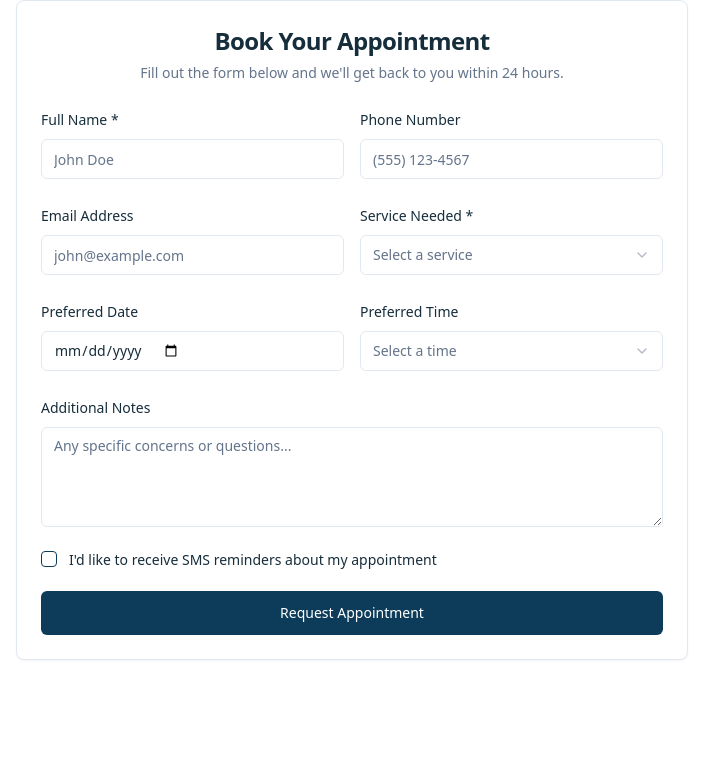
Scenario: IntakeForm Component › Form Validation › should validate phone format
Step 1. Type "123" into the field labelled "Phone Number" → (512, 159), box left=360, top=139, right=663, bottom=179
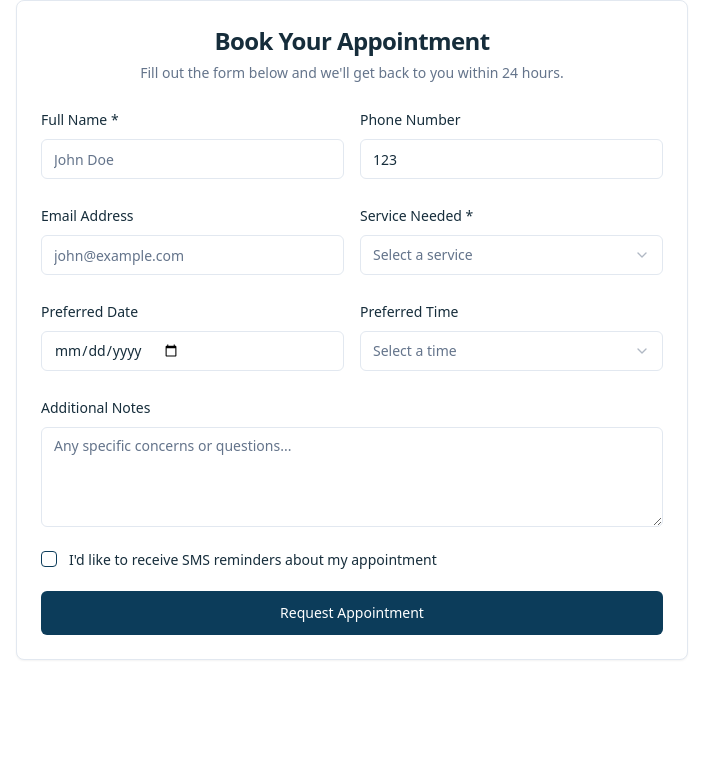
Step 2. Click the button "Request Appointment" → (352, 613), box left=41, top=591, right=663, bottom=635
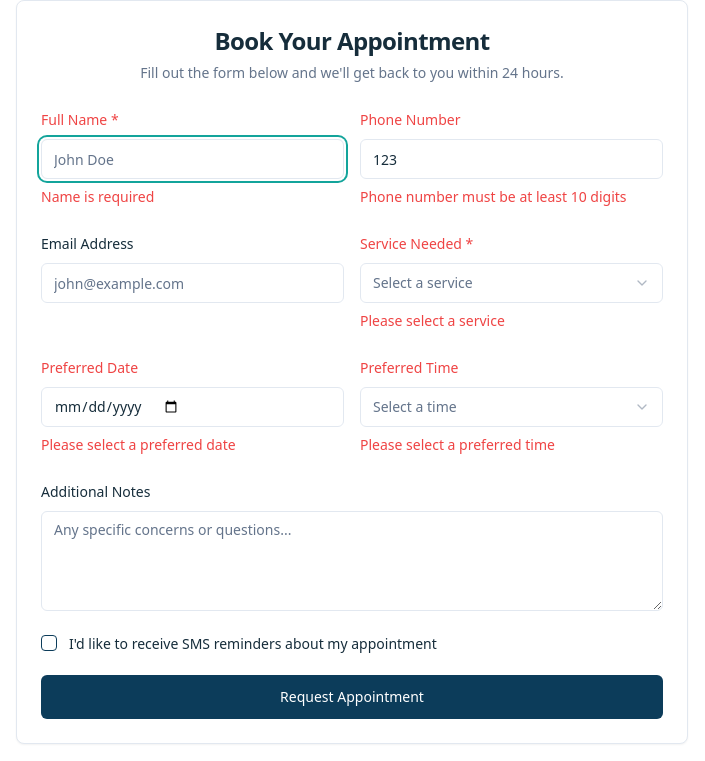
Check: the text "Phone number must be at least 10 digits" is shown, box left=360, top=187, right=663, bottom=207
